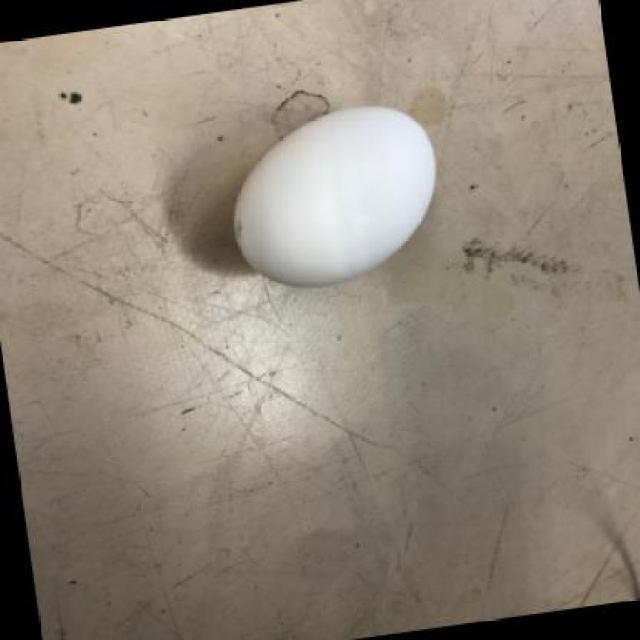egg: (229, 98, 444, 290)
